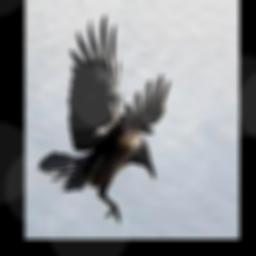Crow: (37, 13, 169, 226)
